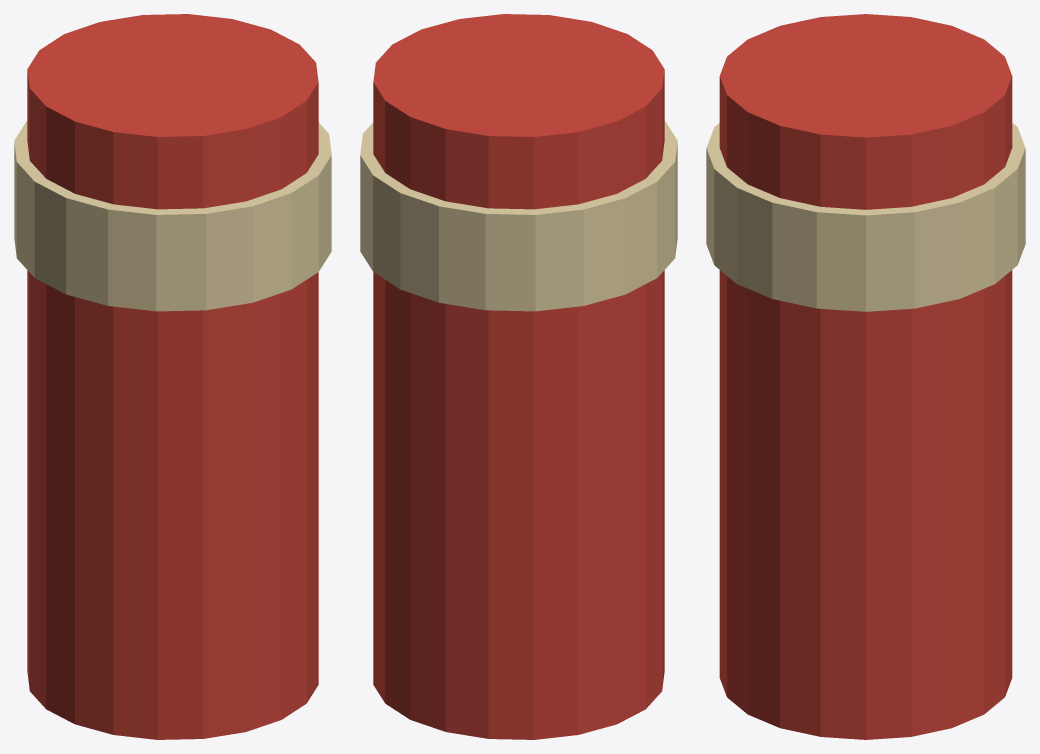
3 renders of one model, left to right at view 1: azimuth 30°, elevation 25°; view 2: azimuth 150°, elevation 25°; view 3: azimuth 270°, elevation 25°, orthographic.
Visible parts, largest first — view 1: RC-029 Service bollard batched; view 2: RC-029 Service bollard batched; view 3: RC-029 Service bollard batched.
Part boxes in pixels (x1,y1,x2,y2): RC-029 Service bollard batched: [14, 14, 331, 739]; RC-029 Service bollard batched: [360, 14, 677, 739]; RC-029 Service bollard batched: [706, 14, 1025, 739].
Bounding box in the file's own units: 0.48 × 1 × 0.48.
